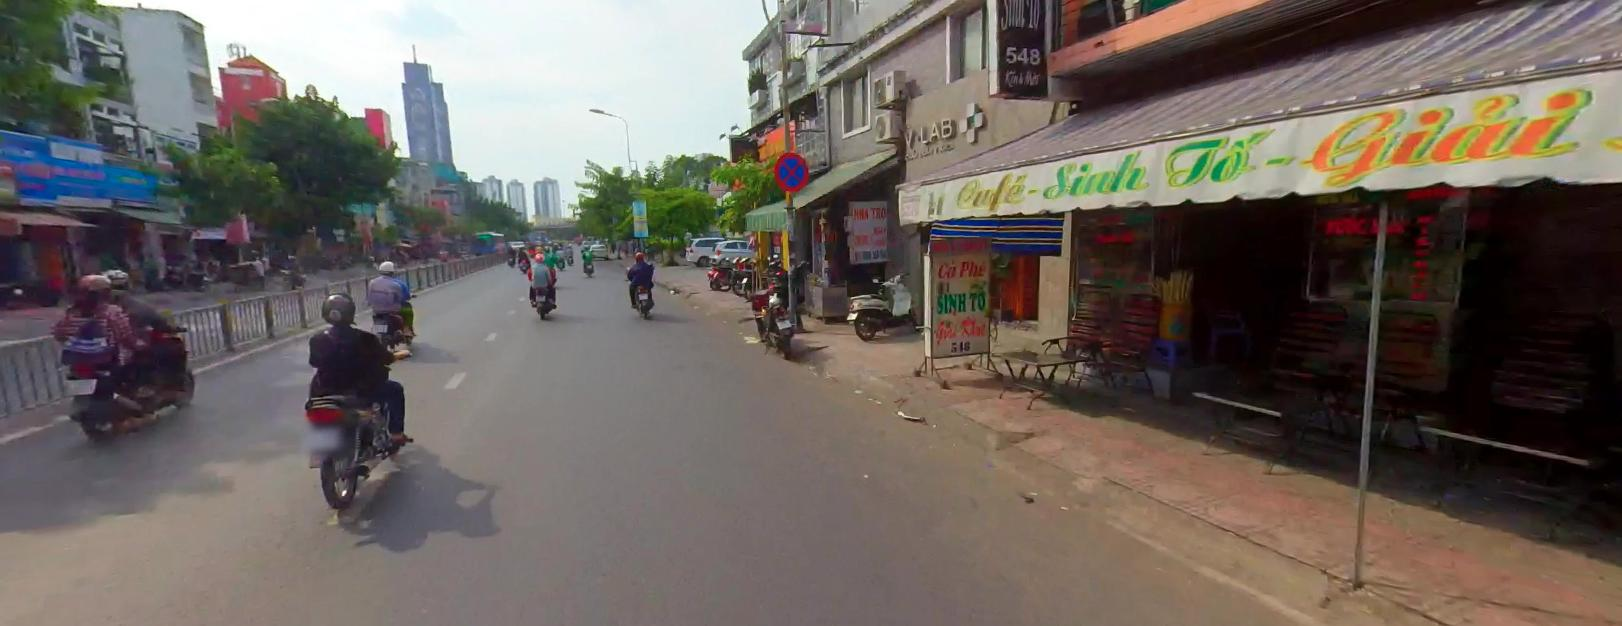Cam dung va do: (774, 150, 809, 192)
